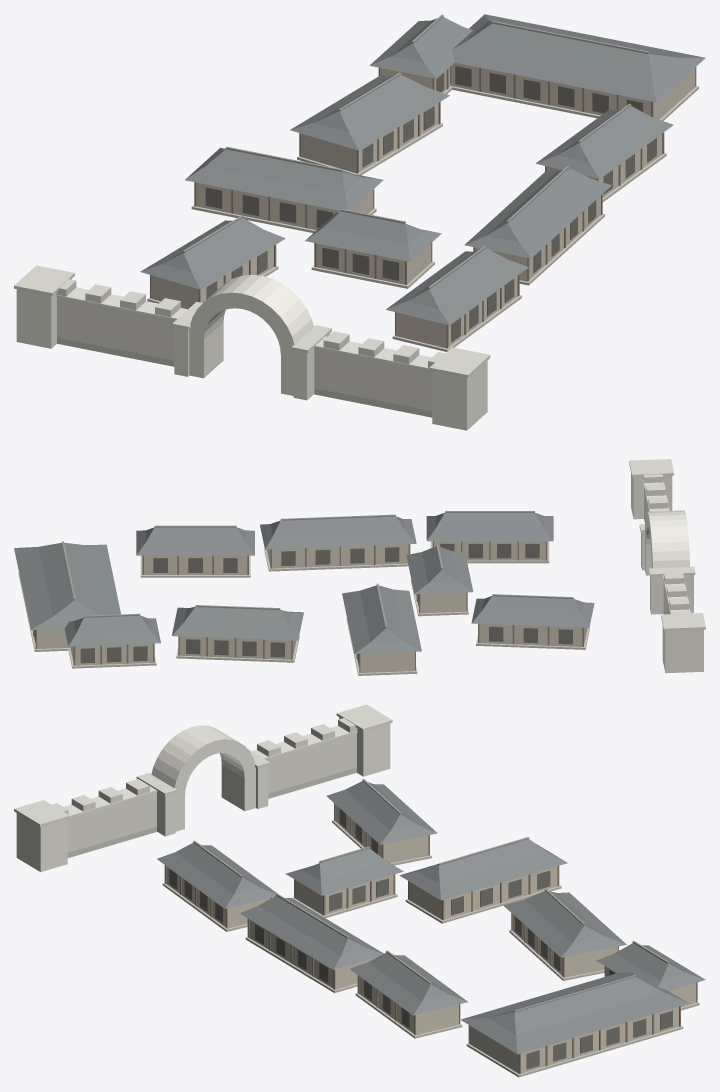
File: set3.glb
3 views of the same model, one above another, from view 1: azimuth 30°, elevation 25°; view 2: azimuth 150°, elevation 25°; view 3: azimuth 270°, elevation 25° (orthographic). The views are drawn at different scales.
Parts seen in each view (by area): view 1: Set 3 white arch and small tiled village; view 2: Set 3 white arch and small tiled village; view 3: Set 3 white arch and small tiled village.
Boxes of the visible parts, left/top/right/bottom form: Set 3 white arch and small tiled village: left=14, top=14, right=705, bottom=430; Set 3 white arch and small tiled village: left=14, top=459, right=705, bottom=675; Set 3 white arch and small tiled village: left=14, top=704, right=705, bottom=1077.
Size of the model in its own units: 84.85 by 9.6 by 75.87.
